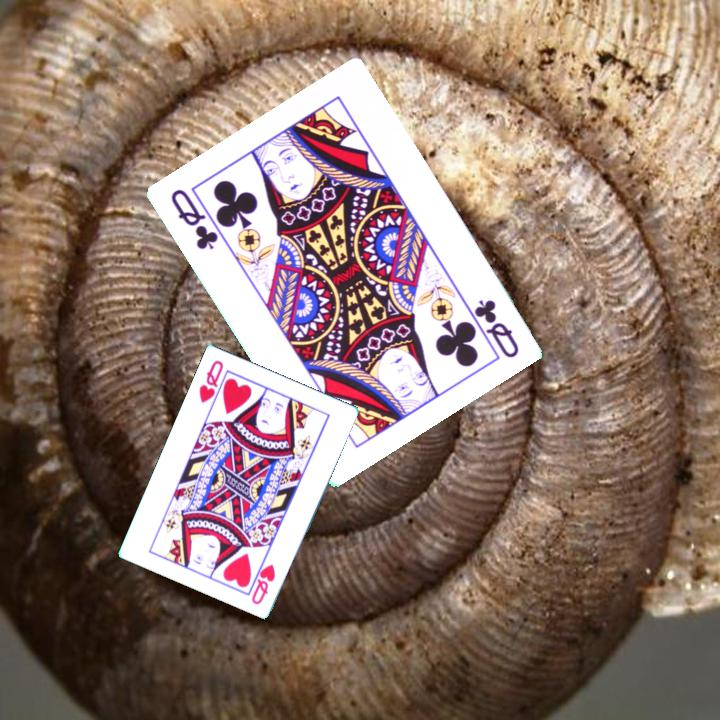Qc: (166, 185, 221, 253), (470, 295, 522, 361)
Qh: (195, 356, 226, 406), (248, 560, 278, 607)
